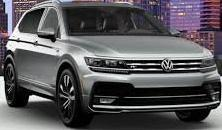SUV: (5, 3, 221, 127)
